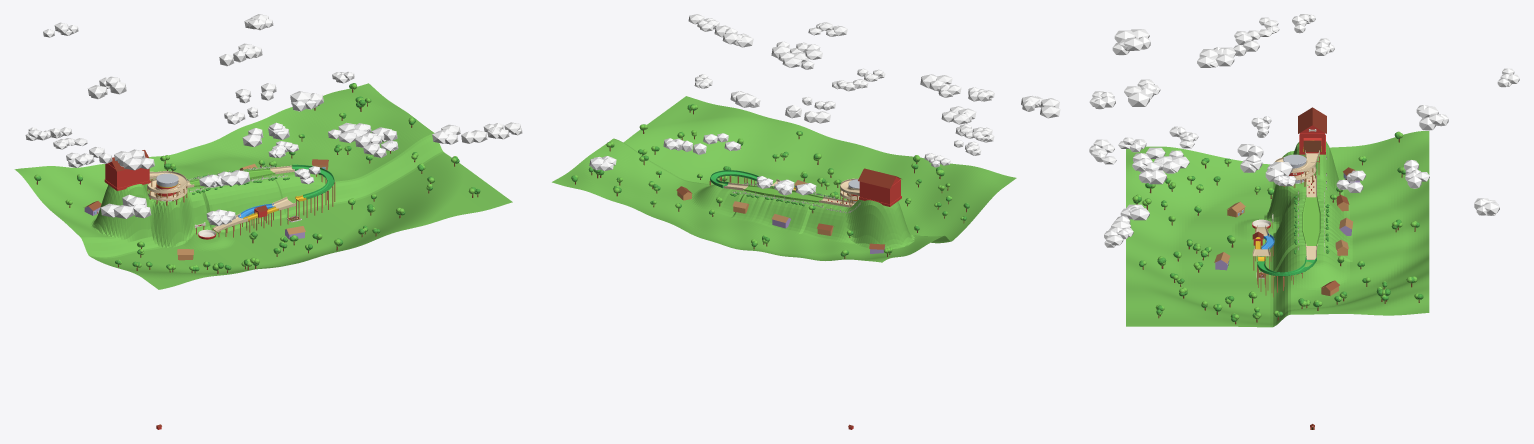
Rendered from dog.glb.
3 renders of one model, left to right at view 1: azimuth 30°, elevation 25°; view 2: azimuth 150°, elevation 25°; view 3: azimuth 270°, elevation 25°, orthographic. The views are drawn at different scales.
Parts seen in each view (by area): view 1: D_ground, D_clouds, D_yard, R_T02_can; view 2: D_ground, D_clouds, D_yard, R_T04_lawn; view 3: D_ground, D_clouds, D_yard, R_T04_lawn.
Boxes of the visible parts, x1=… form: D_ground: x1=14, y1=83, x2=512, y2=289; D_clouds: x1=25, y1=14, x2=522, y2=225; D_yard: x1=34, y1=83, x2=480, y2=273; R_T02_can: x1=147, y1=171, x2=187, y2=200; D_ground: x1=552, y1=96, x2=1016, y2=262; D_clouds: x1=589, y1=14, x2=1060, y2=195; D_yard: x1=571, y1=104, x2=969, y2=258; R_T04_lawn: x1=743, y1=185, x2=823, y2=202; D_ground: x1=1126, y1=131, x2=1429, y2=327; D_clouds: x1=1089, y1=14, x2=1519, y2=247; D_yard: x1=1132, y1=107, x2=1423, y2=324; R_T04_lawn: x1=1302, y1=196, x2=1320, y2=245.
Bounding box in the file's own units: 503 × 397 × 439.
